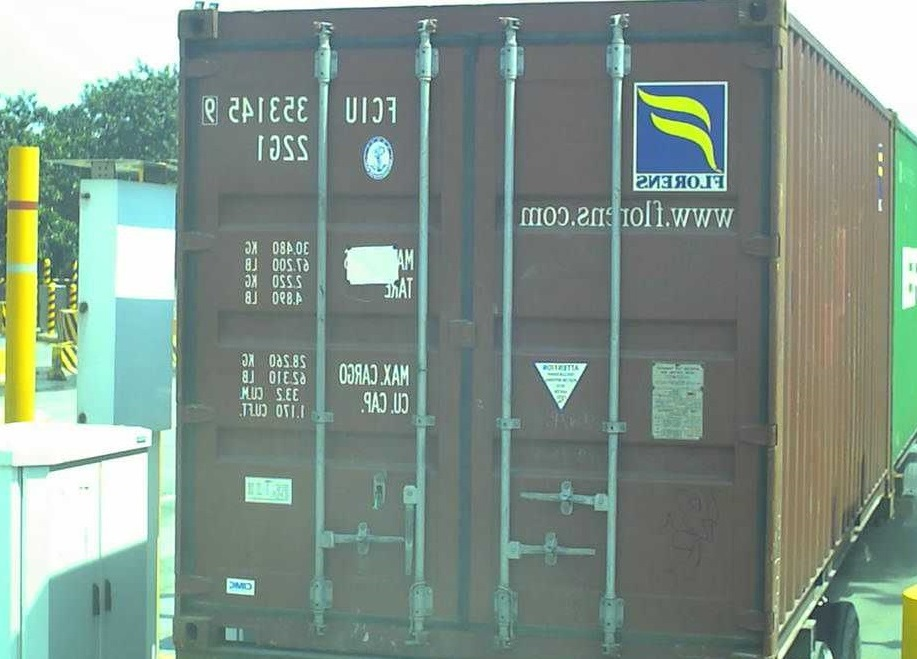container_door: (178, 10, 780, 659)
